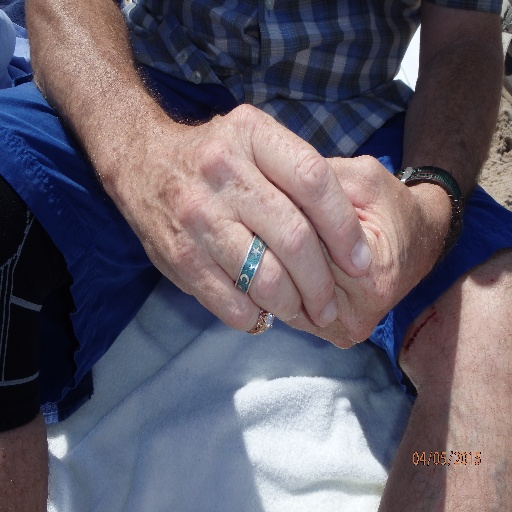hand: (126, 101, 374, 334), (279, 151, 447, 352)
